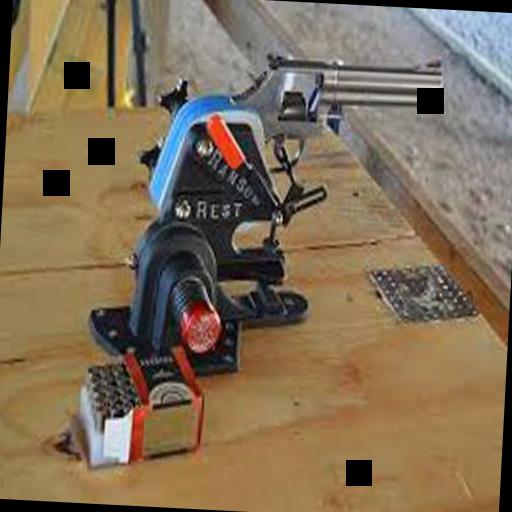Handgun: (168, 48, 450, 196)
